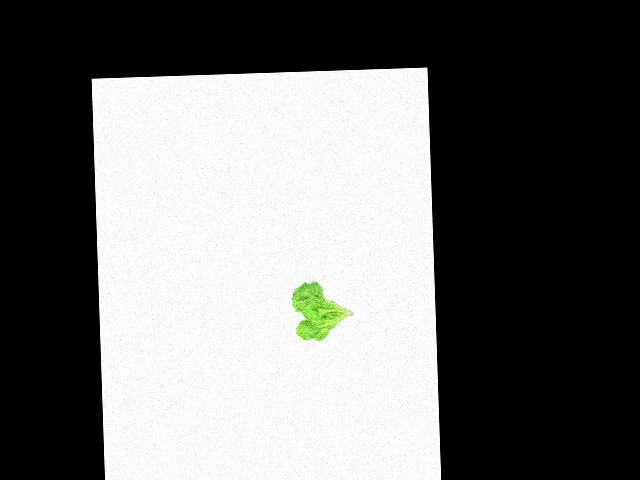lettuce: (287, 276, 356, 344)
